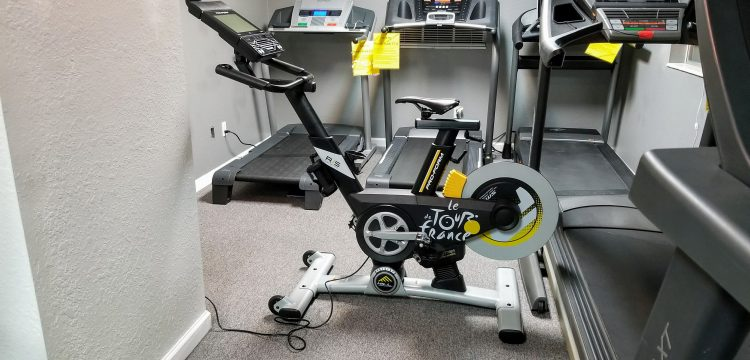gym_bike: (176, 3, 556, 346)
